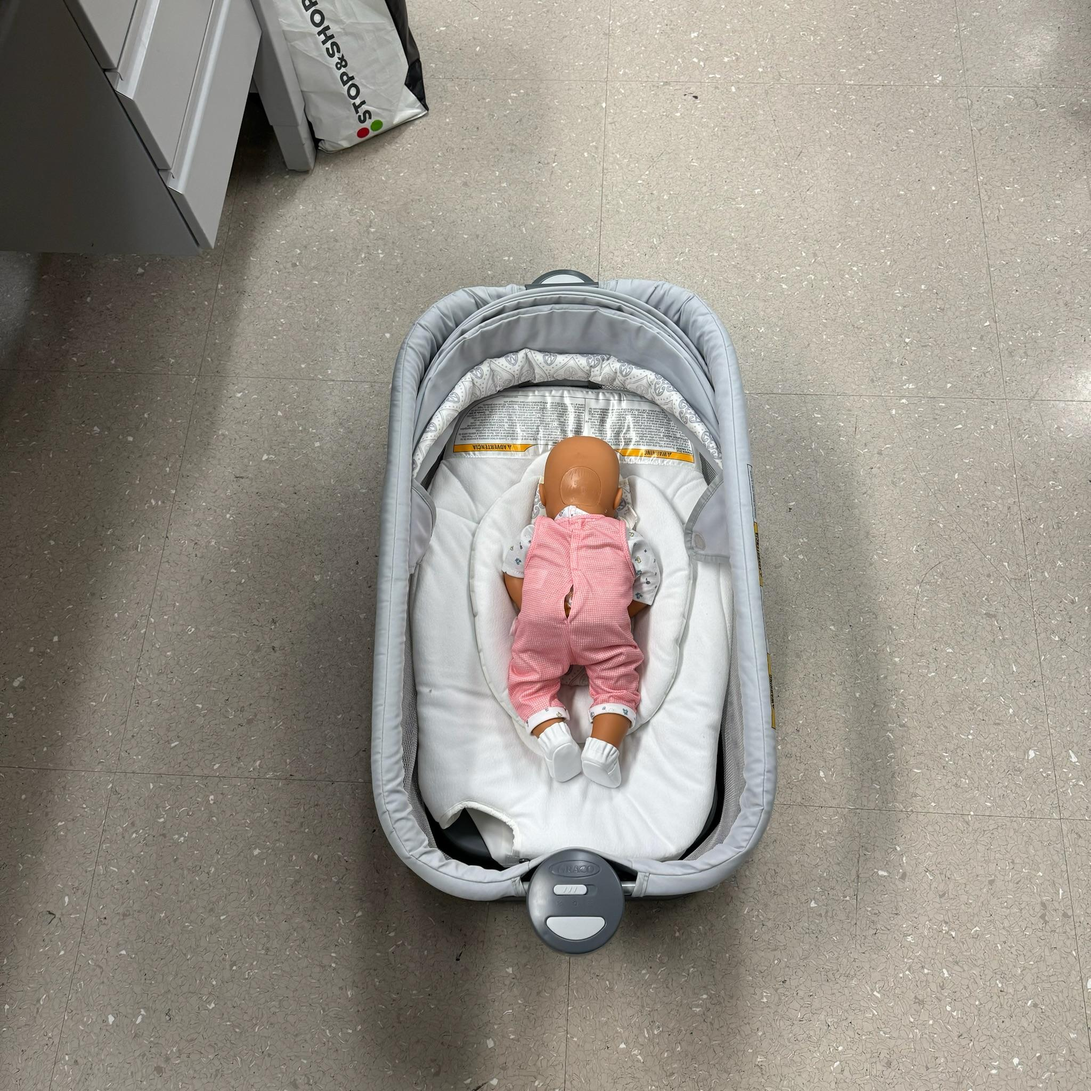baby: (487, 428, 674, 796)
